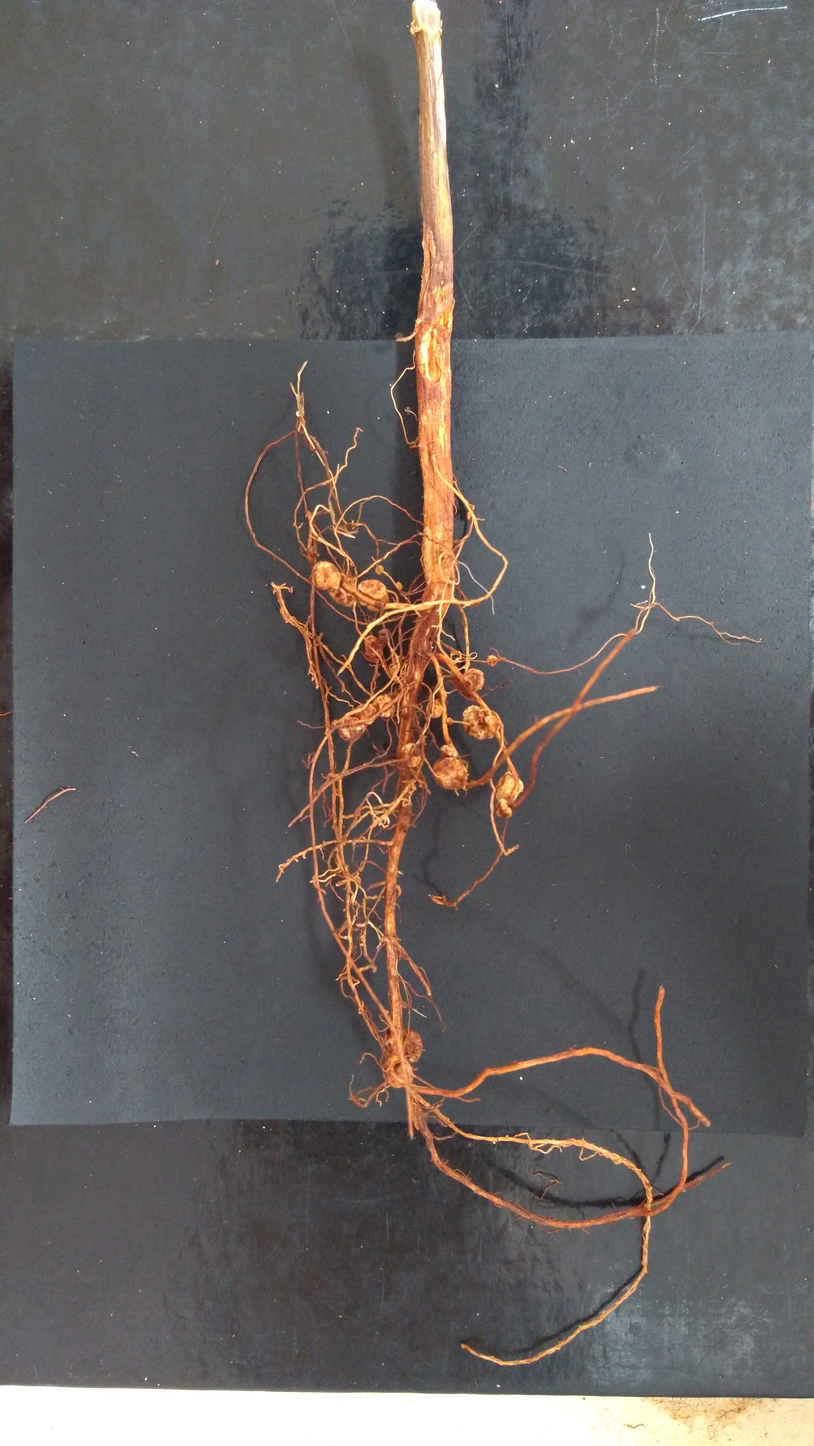nodule: (382, 1025, 425, 1065), (431, 755, 469, 792), (354, 578, 390, 614), (461, 704, 496, 741), (327, 571, 358, 609), (493, 769, 525, 805), (382, 1058, 414, 1091), (311, 559, 341, 594), (338, 716, 367, 743), (362, 634, 384, 665), (372, 692, 395, 720), (400, 741, 423, 769), (354, 701, 378, 727), (461, 668, 485, 694), (493, 797, 513, 820), (424, 698, 442, 720), (483, 714, 501, 733), (377, 628, 392, 648), (438, 744, 458, 759), (485, 653, 499, 668), (374, 564, 385, 576), (395, 581, 403, 590), (446, 717, 455, 725)
